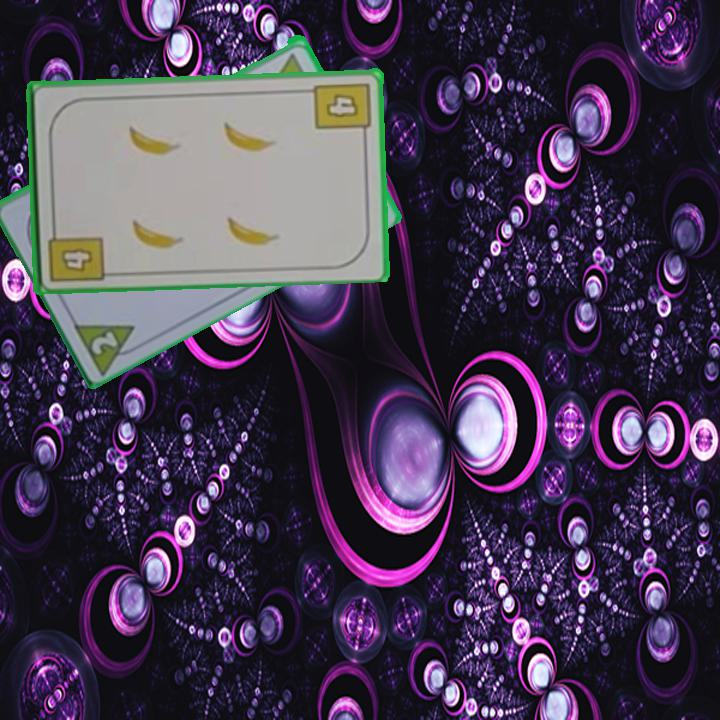2p: (87, 326, 121, 357)
4b: (44, 219, 106, 284), (310, 79, 373, 141)
